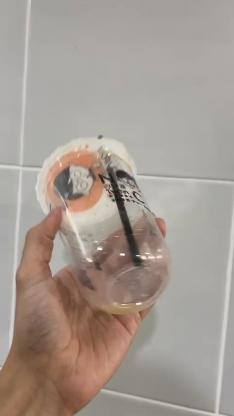Plastic Cup: (37, 135, 173, 314)
